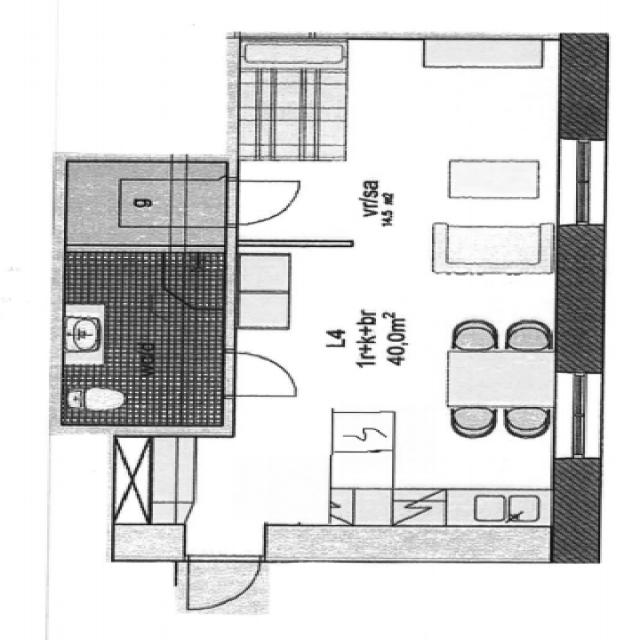door: (168, 541, 273, 619), (208, 171, 321, 234), (210, 342, 306, 406)
window: (549, 126, 618, 244), (552, 355, 601, 478)
zone: (231, 252, 566, 539), (231, 35, 589, 246), (60, 246, 226, 434), (59, 156, 238, 246)
